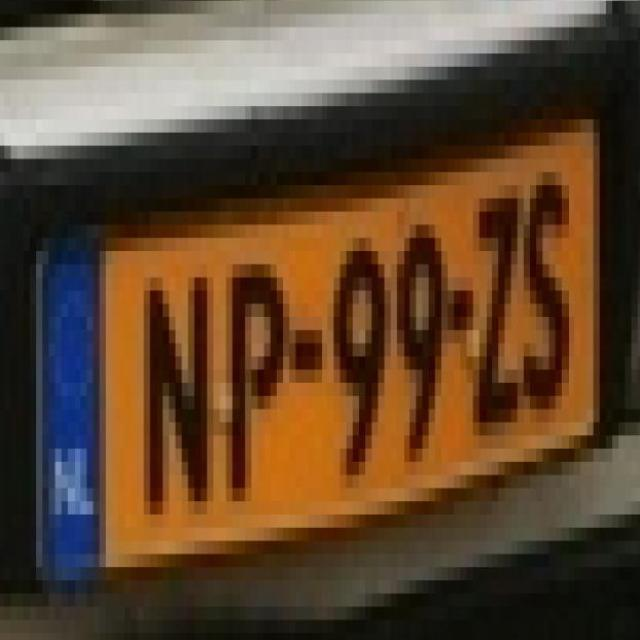license-plate: (45, 164, 630, 547)
